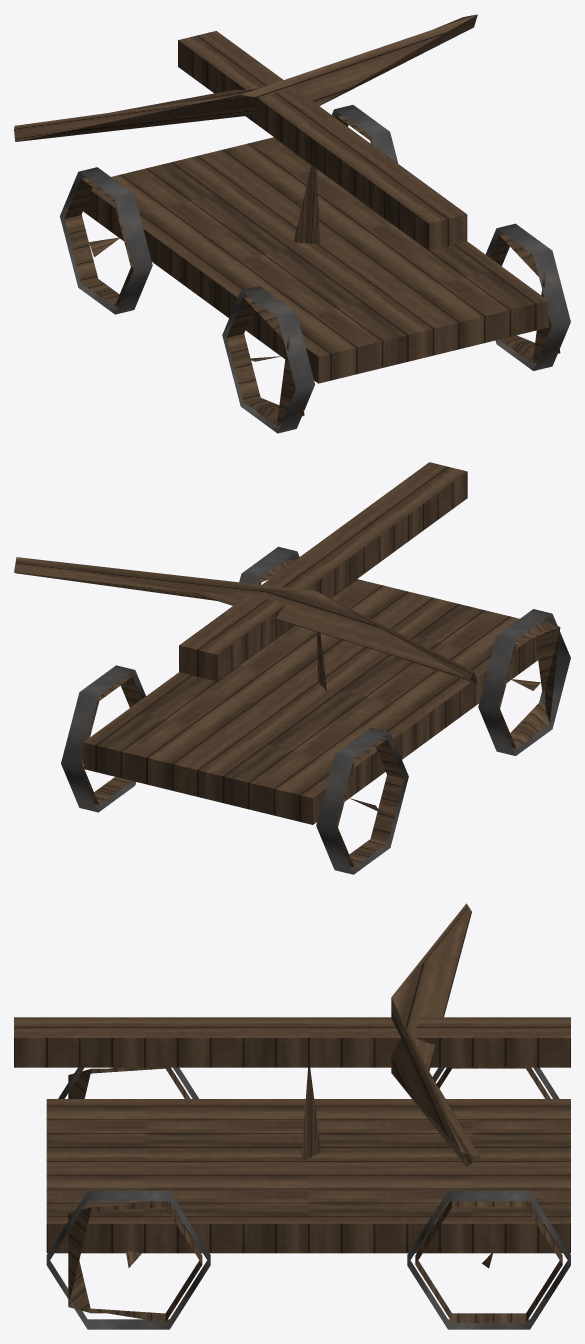
Rendered from Ballista_1_LOD2.gltf.
3 views of the same model, one above another, from view 1: azimuth 30°, elevation 25°; view 2: azimuth 150°, elevation 25°; view 3: azimuth 270°, elevation 25° (orthographic). The views are drawn at different scales.
Parts seen in each view (by area): view 1: Ballista_1_LOD2; view 2: Ballista_1_LOD2; view 3: Ballista_1_LOD2.
Part boxes in pixels (<box>): Ballista_1_LOD2: <box>14,14,570,433</box>; Ballista_1_LOD2: <box>14,462,570,874</box>; Ballista_1_LOD2: <box>14,903,570,1329</box>.
Bounding box in the file's own units: 3.62 × 1.6 × 3.4.
2 materials, 2 textured.
